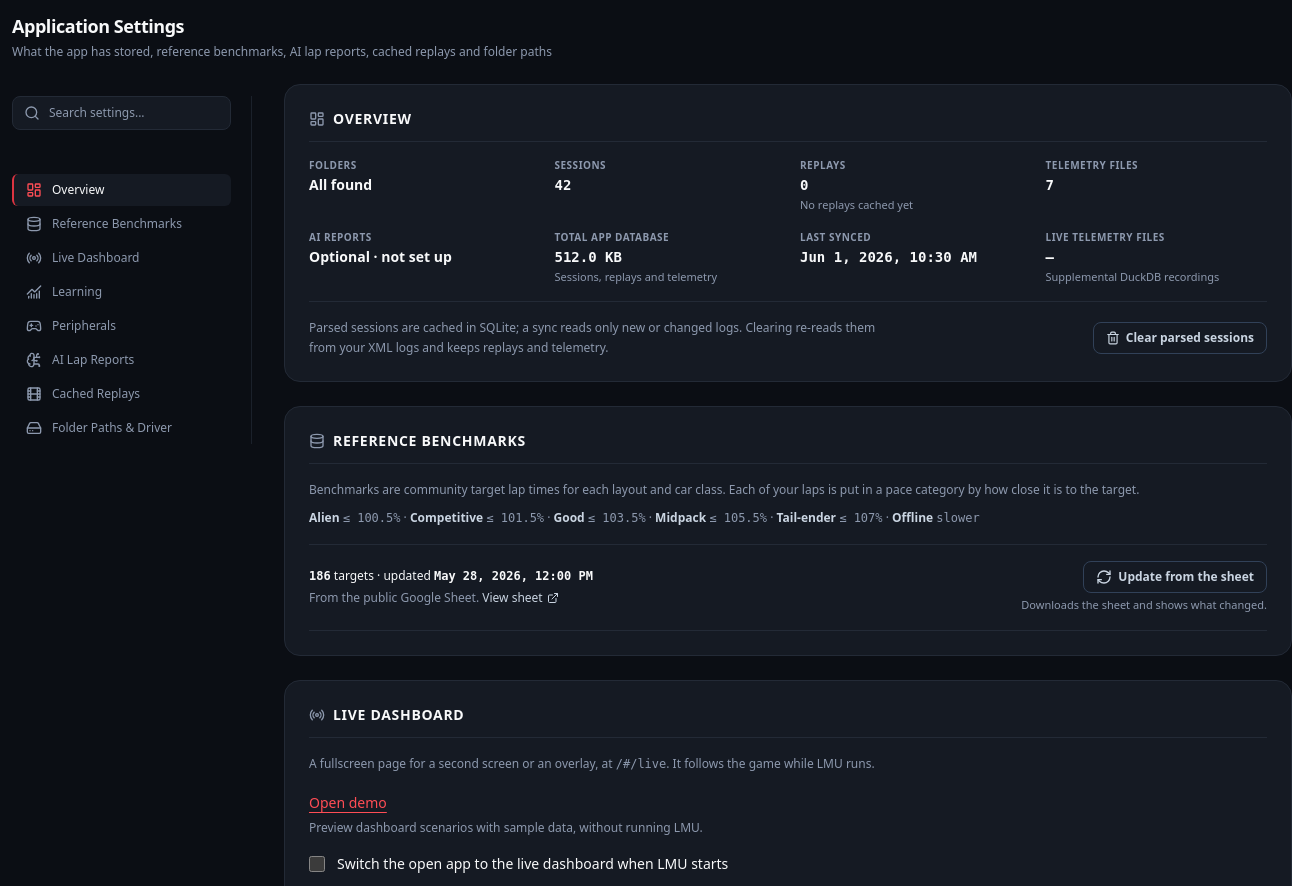
Test: Settings component › renders SQLite cache section with stats and handles clear cache button
The image size is (1292, 886).
Expected: the text "No replays cached yet" is shown, x1=800 y1=197 x2=913 y2=212
Expected: the heading "Session Cache" is not shown
What coordinates should you click on to do the following:
click the button "Clear parsed sessions"
I would click on:
 (1180, 338)
Its box is x1=1093 y1=322 x2=1267 y2=354.
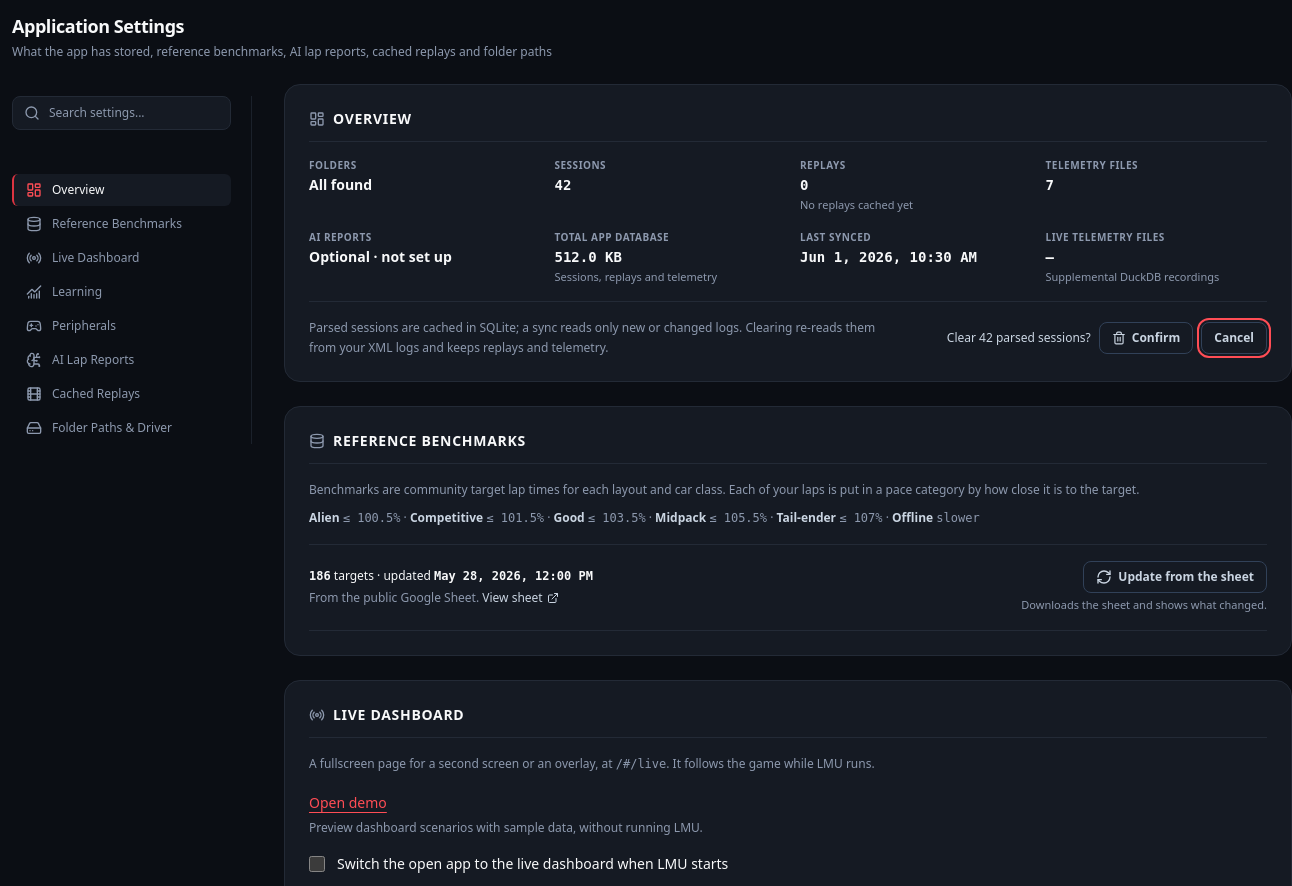
Now the text "Clear 42 parsed sessions?" is shown, box x1=947 y1=330 x2=1091 y2=346
What coordinates should you click on to do the following:
click the button "Confirm"
I would click on:
 (1146, 338)
Its box is x1=1099 y1=322 x2=1193 y2=354.
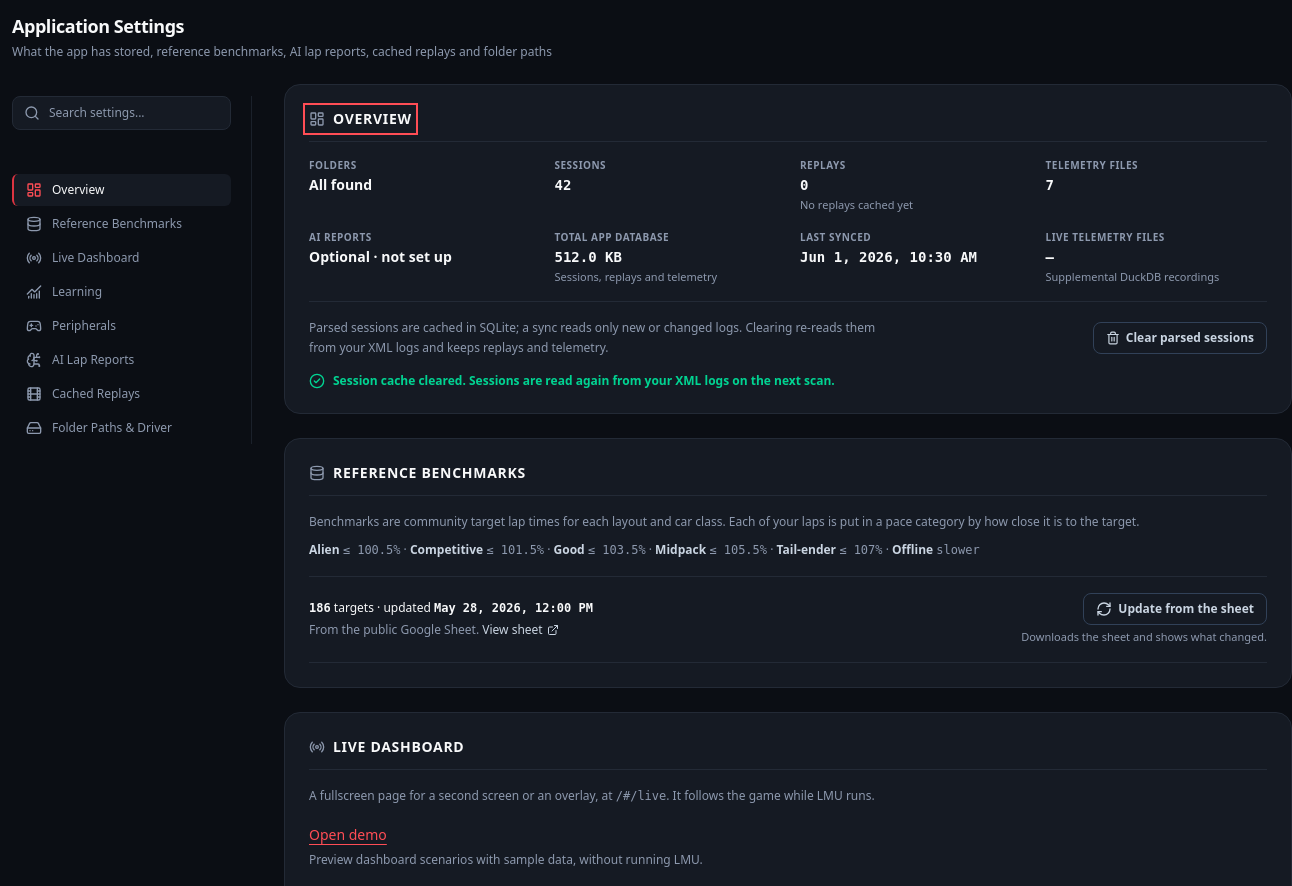
Now the text "Session cache cleared" is shown, box x1=333 y1=372 x2=835 y2=389
